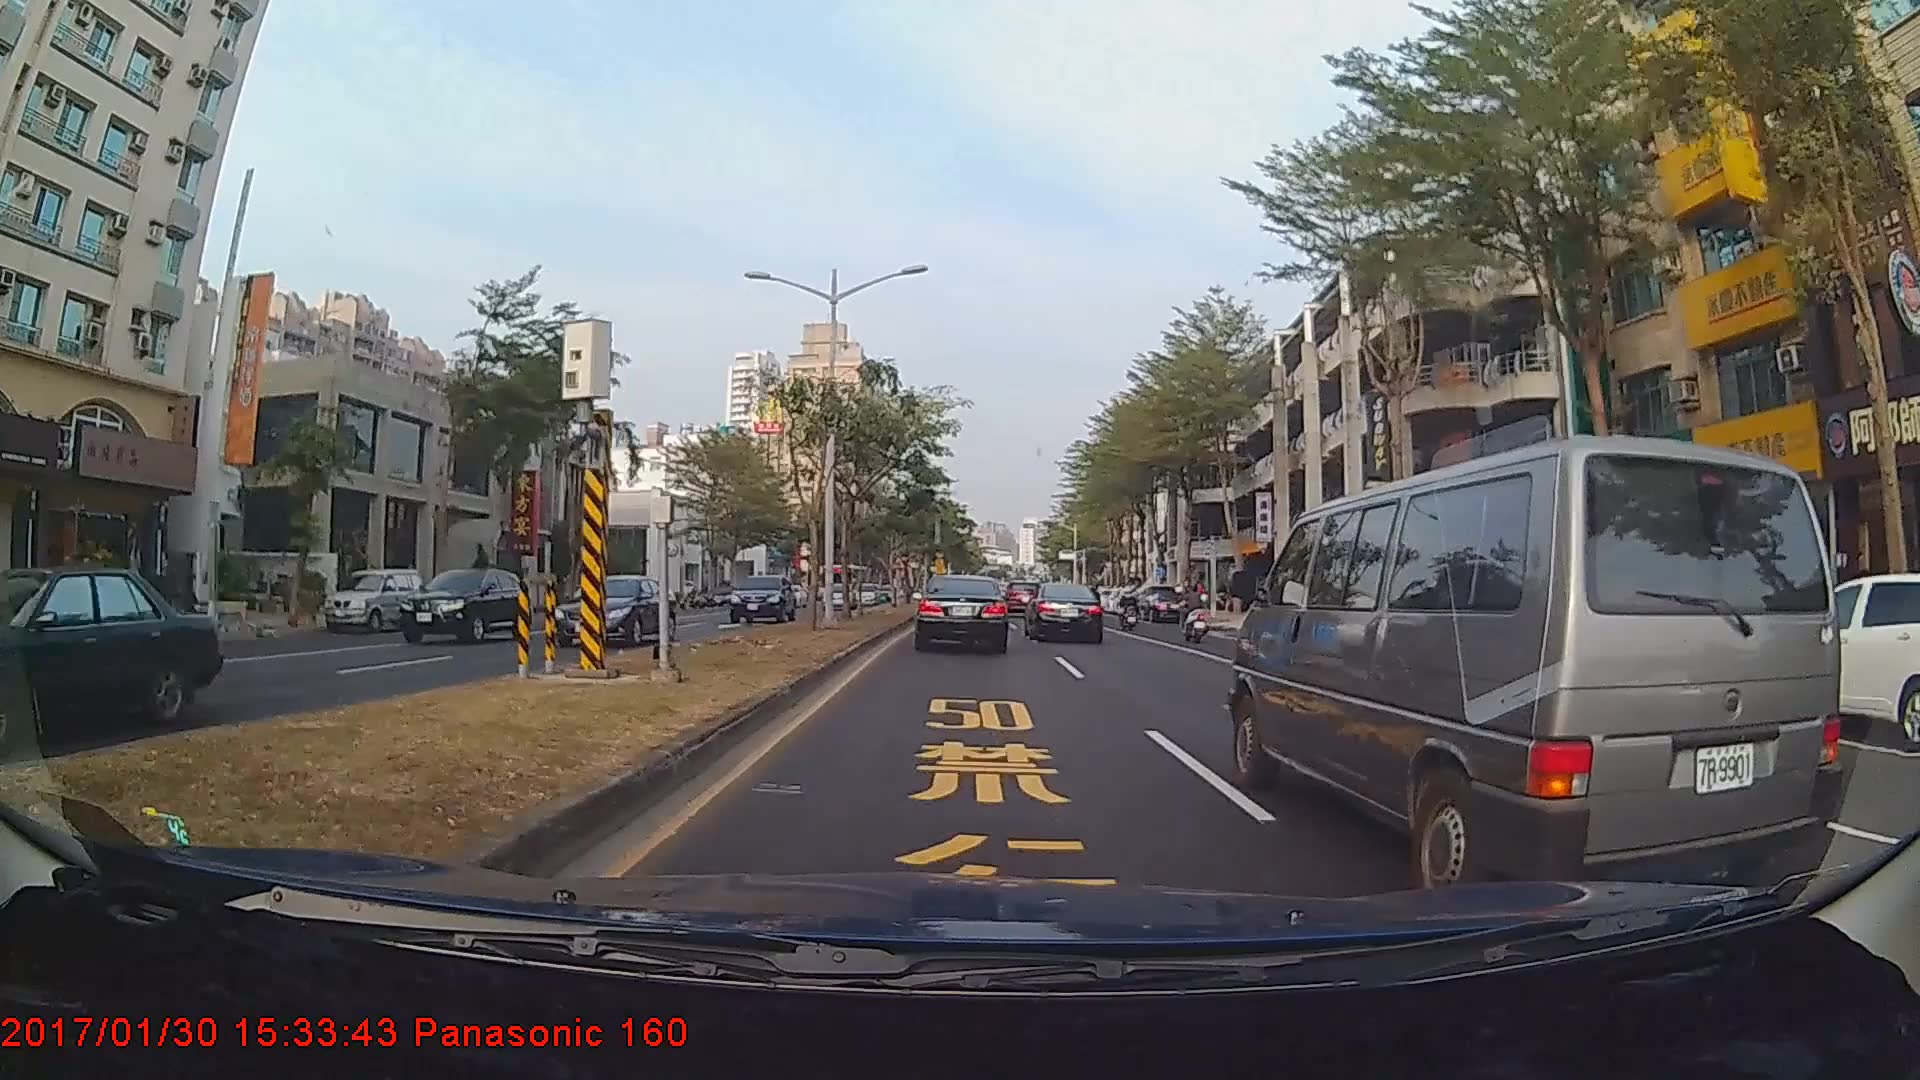rider: (1171, 580, 1216, 644)
vehicle: (1230, 422, 1844, 901), (0, 567, 220, 743), (392, 567, 533, 645), (549, 575, 678, 645), (914, 572, 1007, 653), (322, 568, 427, 633), (1025, 581, 1104, 643), (728, 572, 794, 622), (1132, 591, 1189, 622)
